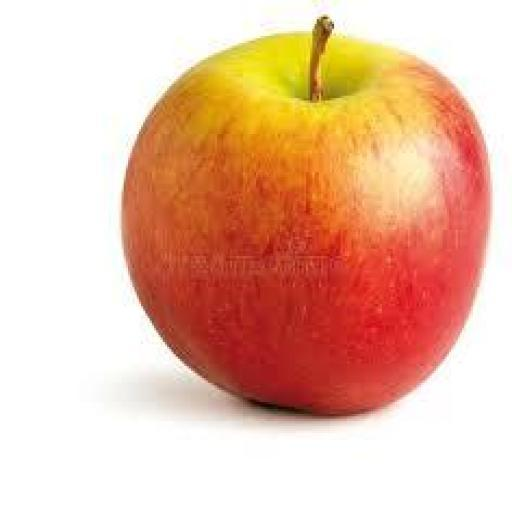apple: (122, 20, 490, 413)
